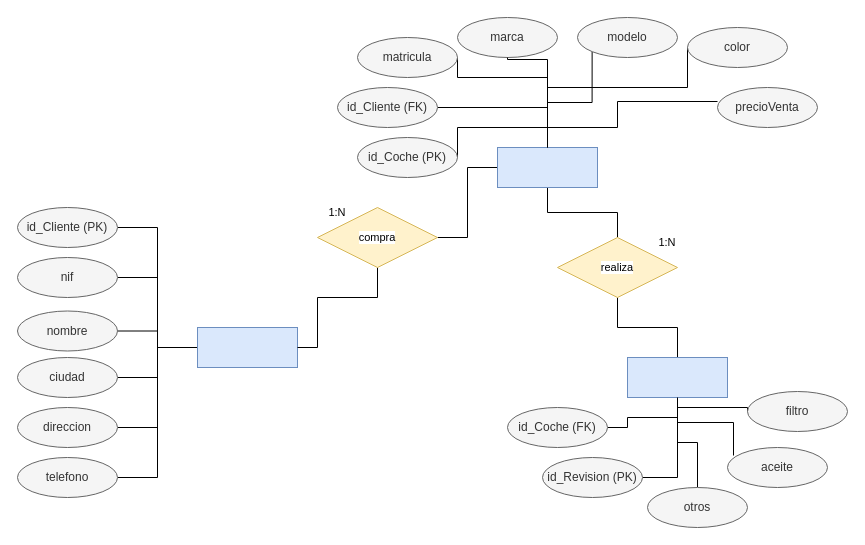
Image size: 865x545. Some labels were removed from this diagram. Here are the shapes that lost their labels. From the top down, the centre of each, then its label:
At point (547, 167): "COCHE".
At point (247, 347): "CLIENTE".
At point (677, 377): "REVISION".
